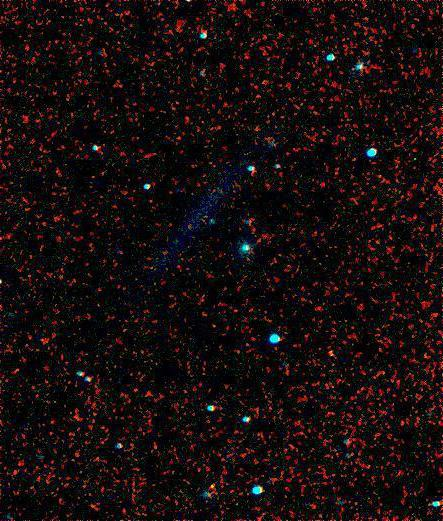star: (199, 474, 229, 504)
